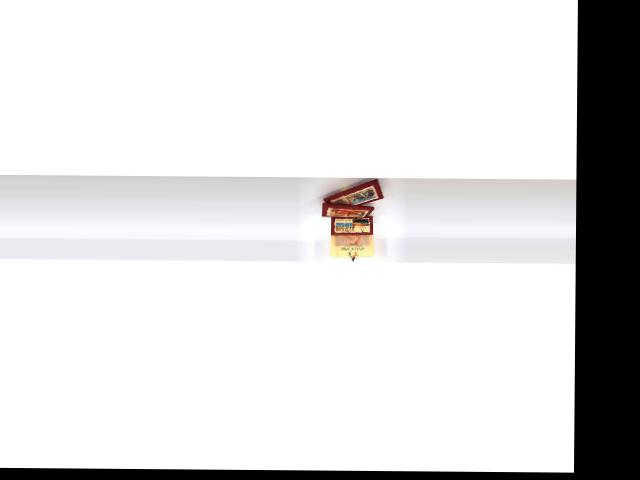chocolate: (320, 174, 396, 209)
